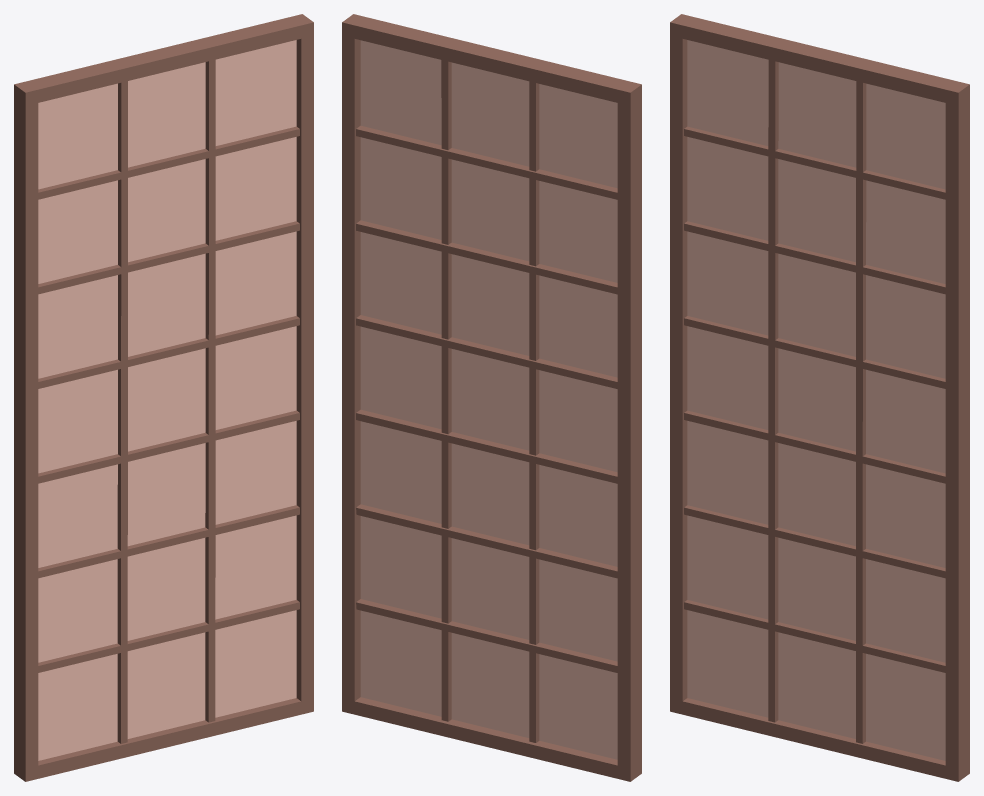
Rendered from window_039.glb.
3 views of the same model, side by side, from view 1: azimuth 30°, elevation 25°; view 2: azimuth 150°, elevation 25°; view 3: azimuth 330°, elevation 25° (orthographic).
Visible parts, largest first — view 1: window_039; view 2: window_039; view 3: window_039.
Part boxes in pixels (x1,y1,x2,y2): window_039: [14, 14, 313, 781]; window_039: [342, 14, 641, 781]; window_039: [670, 14, 969, 781].
Bounding box in the file's own units: 1.21 × 2.76 × 0.0831.
1 material, 1 textured.
